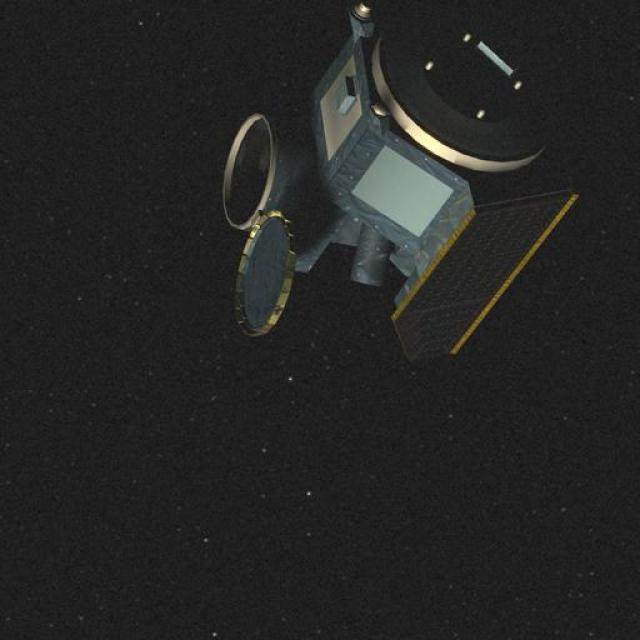cheops: (208, 4, 575, 373)
